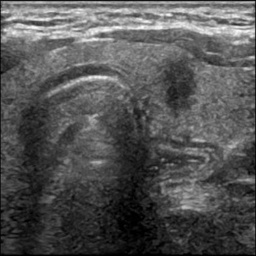mass: (160, 59, 195, 113)
